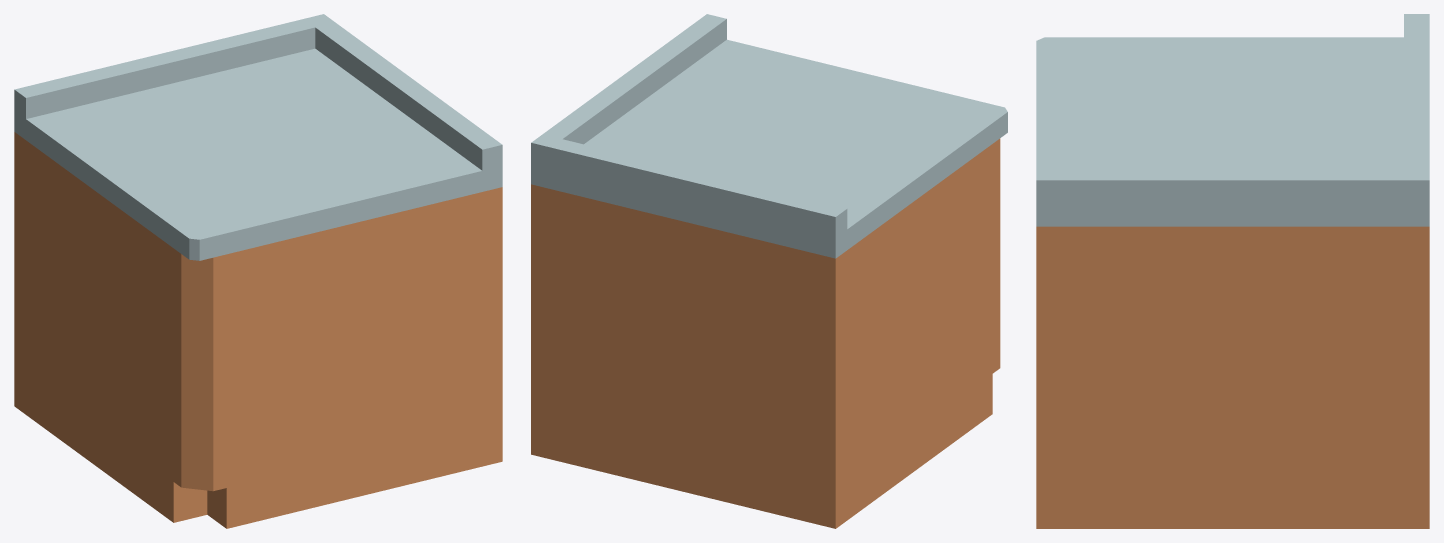
File: kitchenCabinetCornerInner.glb
3 views of the same model, side by side, from view 1: azimuth 30°, elevation 25°; view 2: azimuth 150°, elevation 25°; view 3: azimuth 270°, elevation 25° (orthographic). The views are drawn at different scales.
Visible parts, largest first — view 1: kitchenCabinetCornerInner; view 2: kitchenCabinetCornerInner; view 3: kitchenCabinetCornerInner.
Part boxes in pixels (x1,y1,x2,y2): kitchenCabinetCornerInner: [14, 14, 502, 528]; kitchenCabinetCornerInner: [531, 14, 1007, 528]; kitchenCabinetCornerInner: [1036, 14, 1429, 528].
Size of the model in its own units: 0.9963 by 0.9746 by 0.9963.
